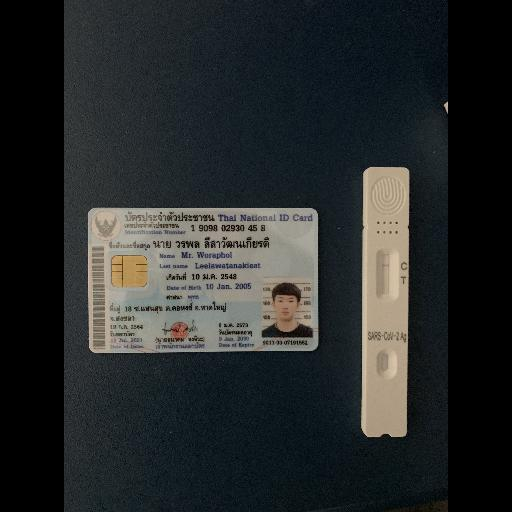Neg: (363, 166, 411, 440)
